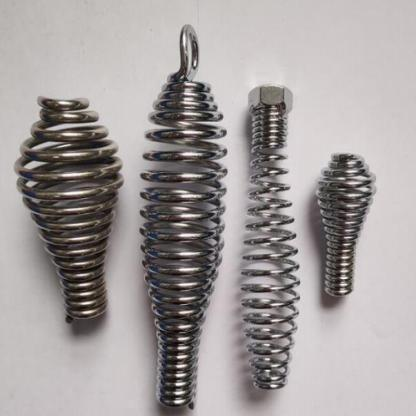FOD: (135, 19, 231, 415), (11, 89, 126, 331), (235, 84, 300, 394), (316, 150, 380, 299)
